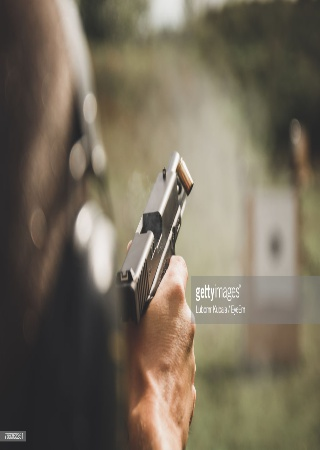handgun: (110, 148, 195, 331)
